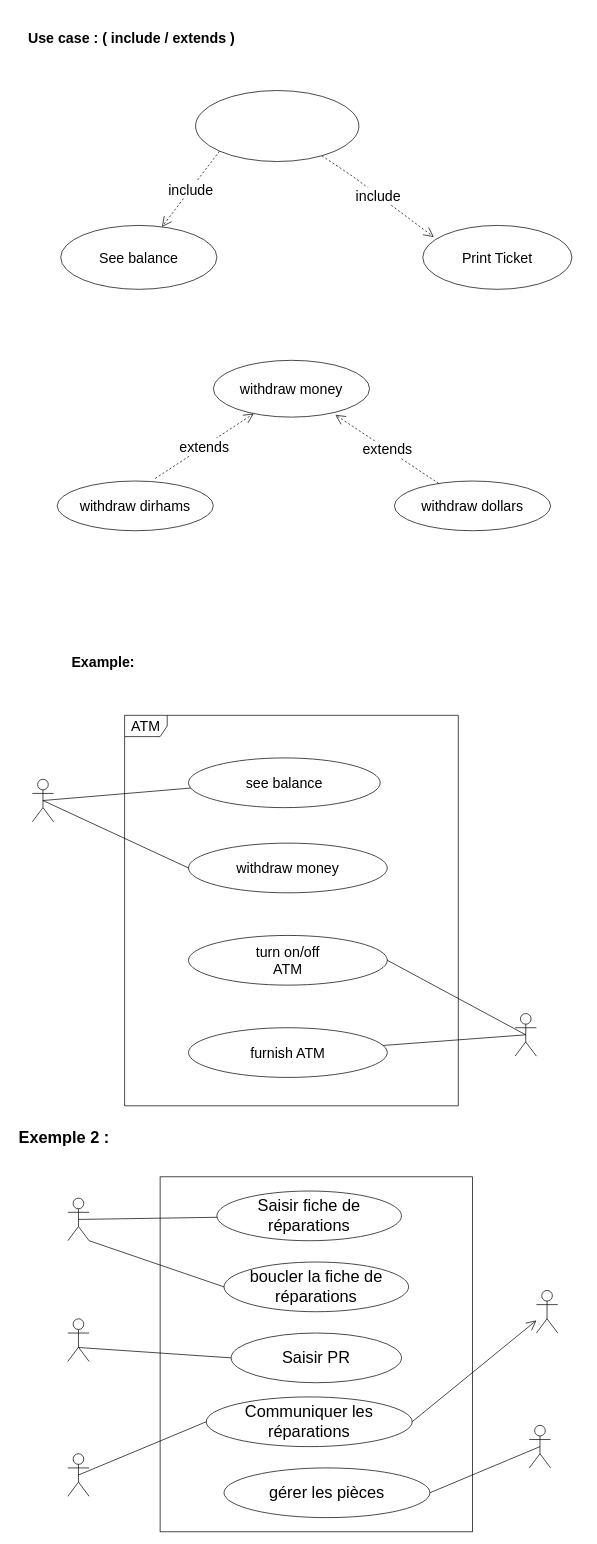
This 597x1544 diagram has some shape labels left out. The centre of each missing label's shape, as x and y in pixels:
"Chef d'atelier" goes at pixel 78 1219.
"Comptable" goes at pixel 78 1474.
"Customer" goes at pixel 43 800.
"Logiciel comptable" goes at pixel 547 1311.
"Magazinier" goes at pixel 540 1446.
"Mechanicien" goes at pixel 78 1339.
"Print balance" goes at pixel 277 126.
"Technician" goes at pixel 525 1034.
